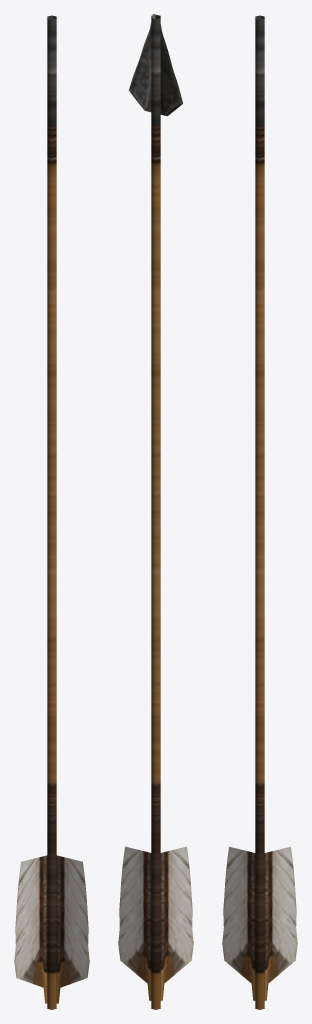
Rendered from mm7_m154_arrow.glb.
3 views of the same model, side by side, from view 1: azimuth 90°, elevation 25°; view 2: azimuth 150°, elevation 25°; view 3: azimuth 270°, elevation 25° (orthographic).
Parts seen in each view (by area): view 1: Arrow; view 2: Arrow; view 3: Arrow.
Boxes of the visible parts, bbox=[...] form: Arrow: bbox=[14, 15, 89, 1009]; Arrow: bbox=[118, 14, 193, 1009]; Arrow: bbox=[222, 15, 297, 1009].
Bounding box in the file's own units: 0.0551 × 0.8042 × 0.0554.
Materials: 1 (1 with a texture image).
